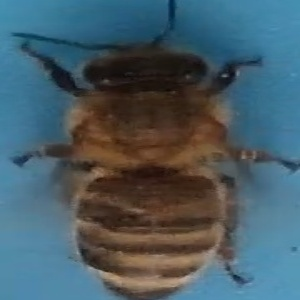bee: (15, 15, 293, 300)
